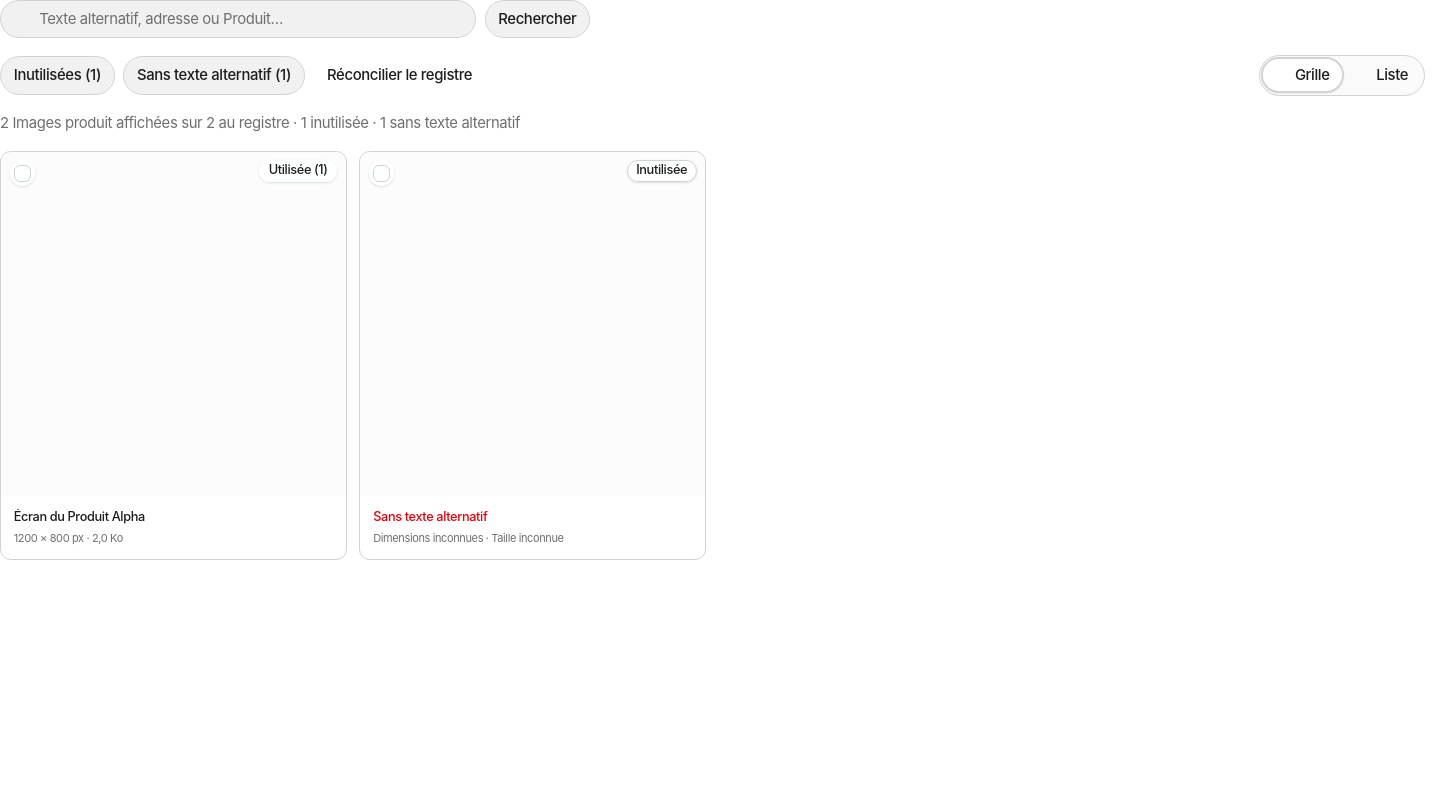
it: MediasBibliotheque › montre dans le tiroir les dimensions, la taille, le type, les usages et l'alt
Click the button named "Ouvrir le détail de l" next to "Utilisée (1)" at {"x": 173, "y": 324}, box [1,152,346,496]
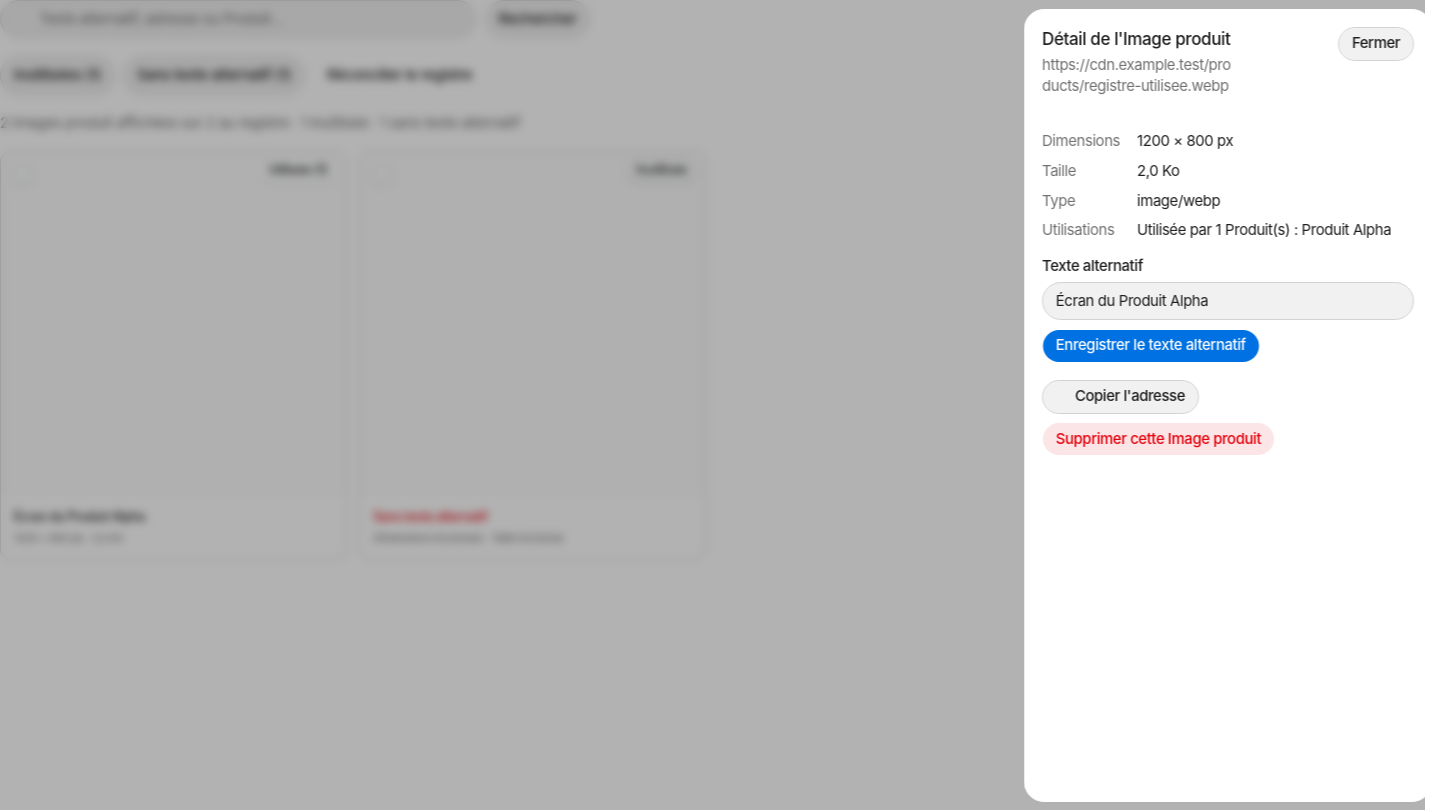
Result: the dialog is shown at [1024,8,1432,802]
Result: the dialog shows "1200 × 800 px" at [1136,132,1233,150]
Result: the dialog shows "2,0 Ko" at [1136,161,1179,179]
